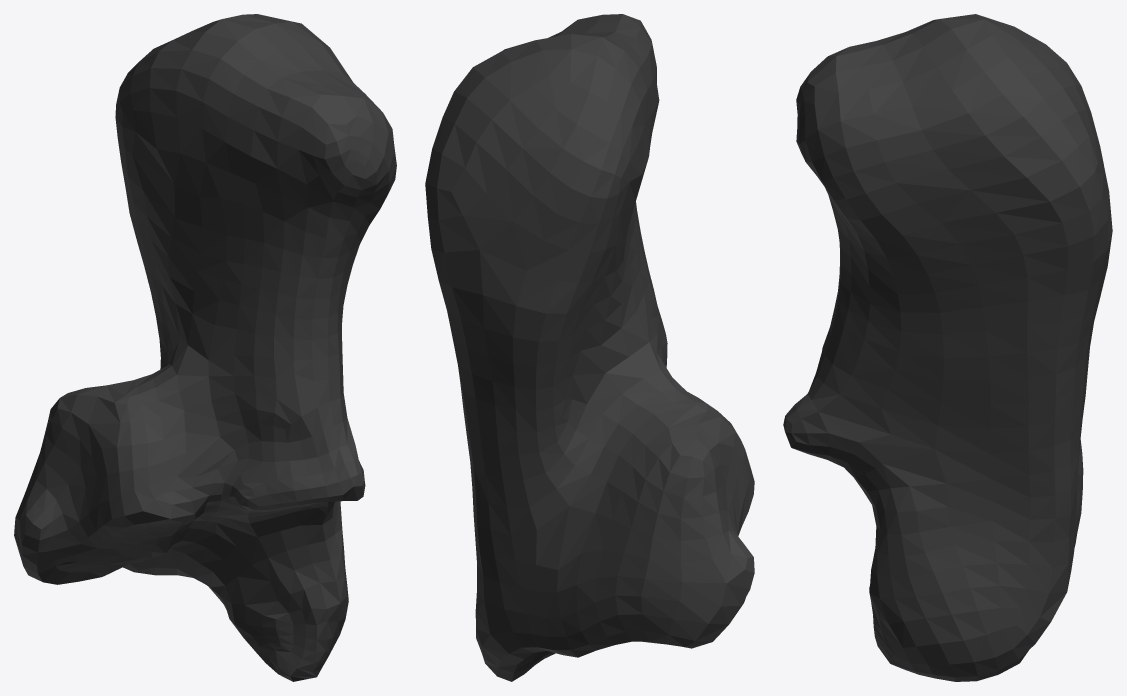
Rendered from Calcaneus_L.glb.
The picture shows the model from 3 angles, left to right: view 1: azimuth 30°, elevation 25°; view 2: azimuth 150°, elevation 25°; view 3: azimuth 270°, elevation 25°; orthographic projection.
Parts seen in each view (by area): view 1: Calcaneus_L; view 2: Calcaneus_L; view 3: Calcaneus_L.
Boxes of the visible parts, left/top/right/bottom form: Calcaneus_L: left=14, top=14, right=396, bottom=681; Calcaneus_L: left=425, top=14, right=754, bottom=681; Calcaneus_L: left=783, top=14, right=1112, bottom=681.
Bounding box in the file's own units: 0.092 × 0.1861 × 0.0883.
Materials: 1 (1 with a texture image).
